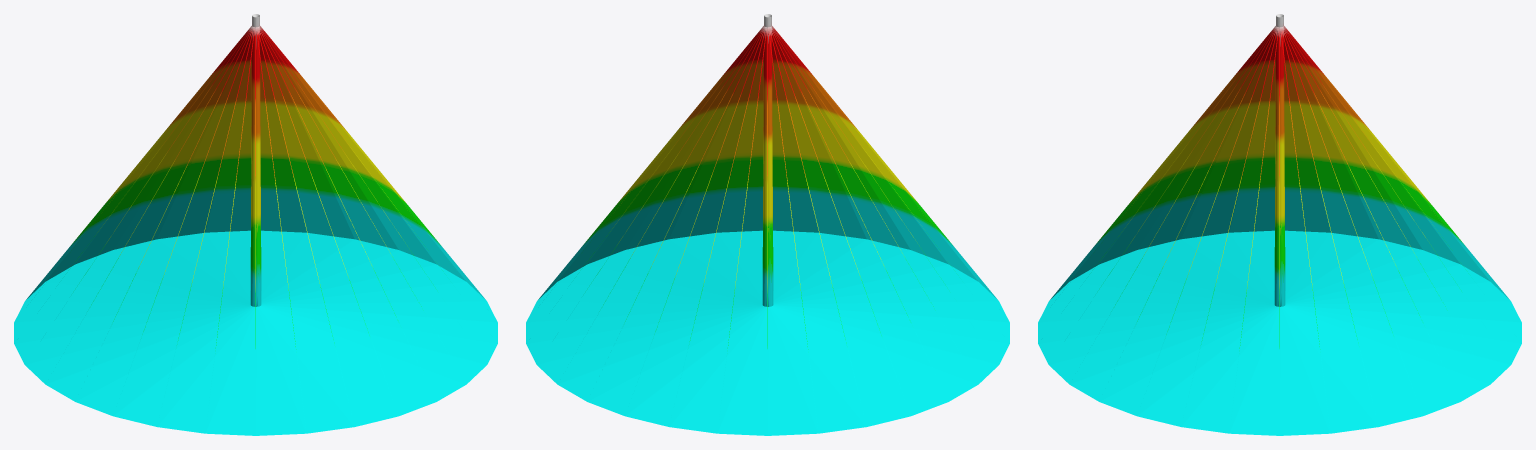
The picture shows the model from 3 angles, left to right: view 1: azimuth 30°, elevation 25°; view 2: azimuth 150°, elevation 25°; view 3: azimuth 270°, elevation 25°; orthographic projection.
Visible parts, largest first — view 1: algeomath; view 2: algeomath; view 3: algeomath.
Boxes of the visible parts, left/top/right/bottom form: algeomath: left=14, top=14, right=497, bottom=435; algeomath: left=526, top=14, right=1009, bottom=435; algeomath: left=1038, top=14, right=1521, bottom=435.
Bounding box in the file's own units: 6.06 × 4.37 × 6.03.
1 material, 1 textured.
